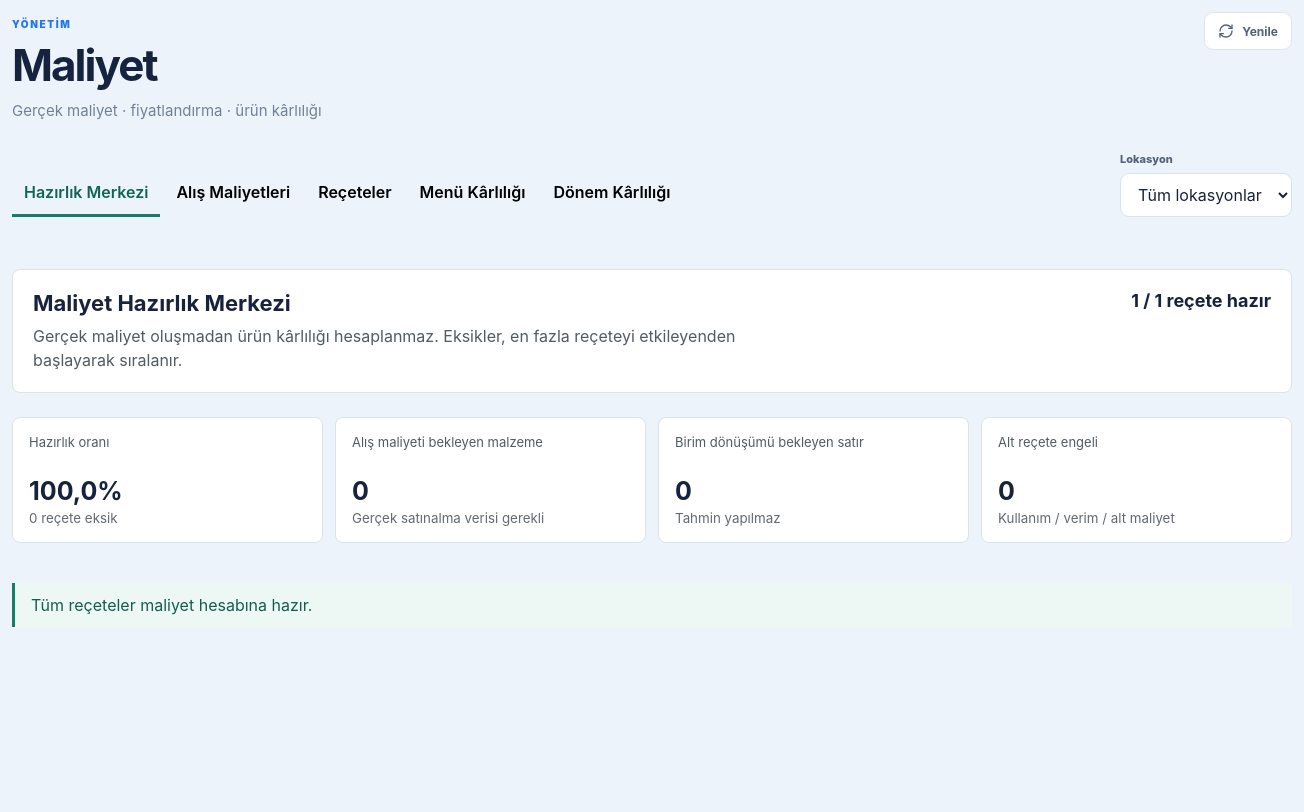
costing read models › shows readiness first, then last/previous, weighted cost and price change; switches currency
Expected: the heading "Maliyet Hazırlık Merkezi" is shown, [33,290,291,316]
Expected: the text "1 / 1 reçete hazır" is shown, [1131,290,1271,311]
Click the tab "Alış Maliyetleri": (233, 194) [164,170,302,217]
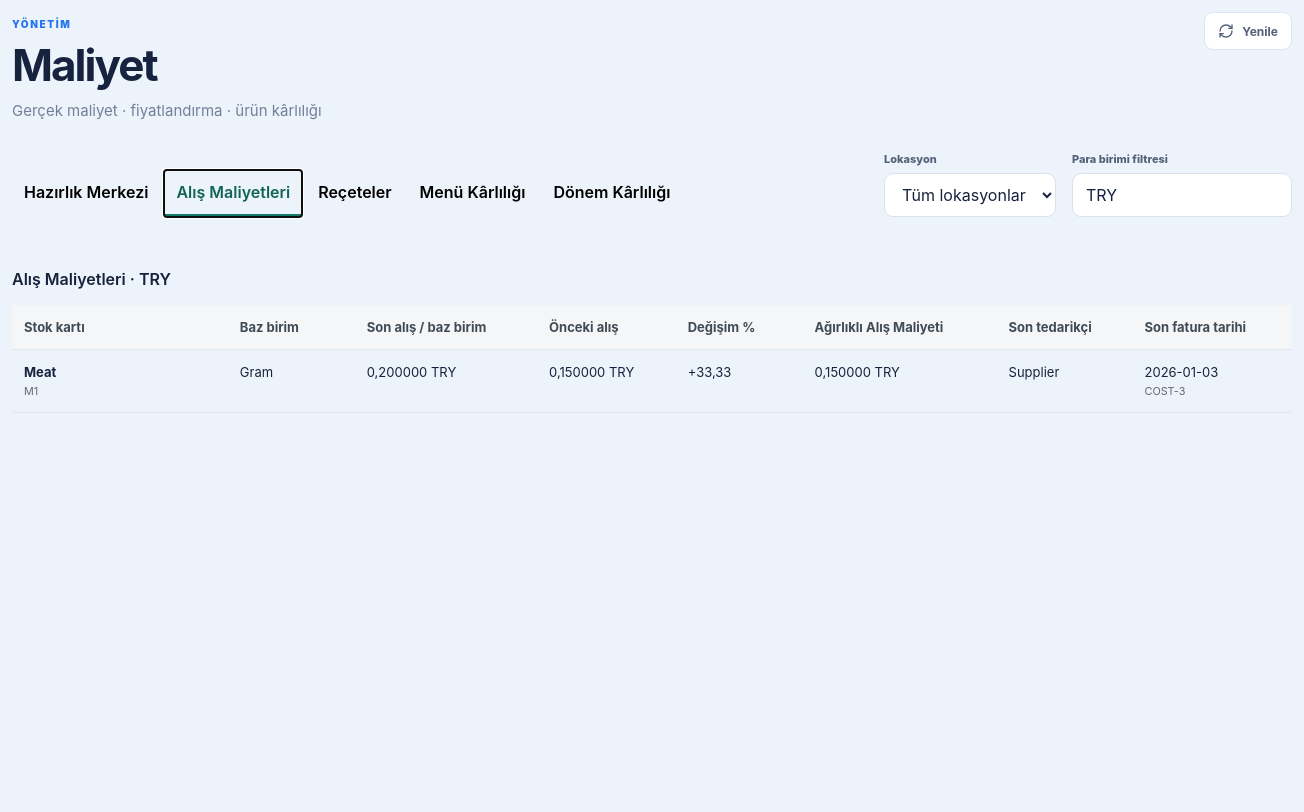
Result: the text "0,200000 TRY" is shown at [355,350,537,413]
Result: the text "0,150000 TRY" is shown 2 times at [537,350,676,413]; [803,350,997,413]
Result: the text "+33,33" is shown at [676,350,803,413]
Replace the text in the field labelled "Para birimi filtresi" with "EUR": (1182, 195) [1072,173,1292,217]
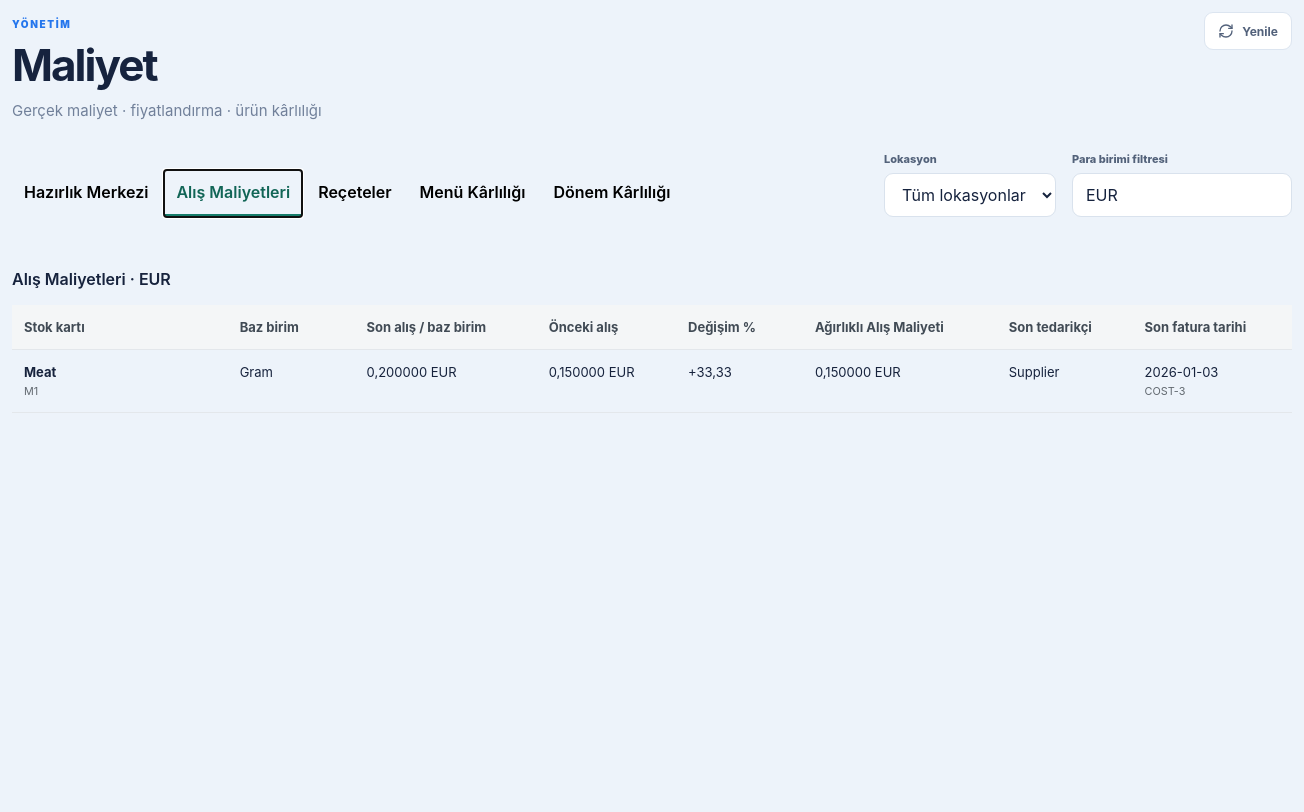
Result: the text "0,200000 EUR" is shown at [354,350,537,413]
Click the tab "Reçeteler": (355, 194) [306,170,404,217]
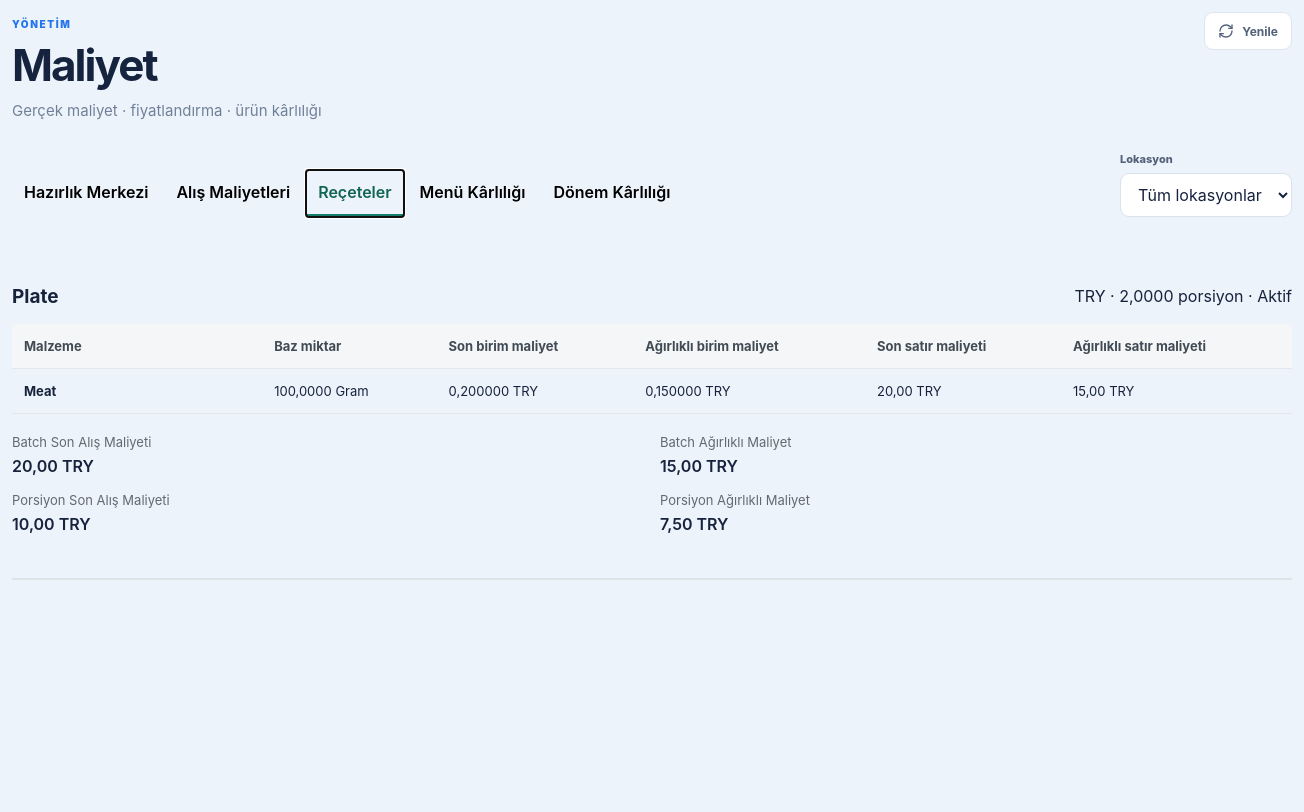
Click the tab "Menü Kârlılığı": (472, 194) [408,170,537,217]
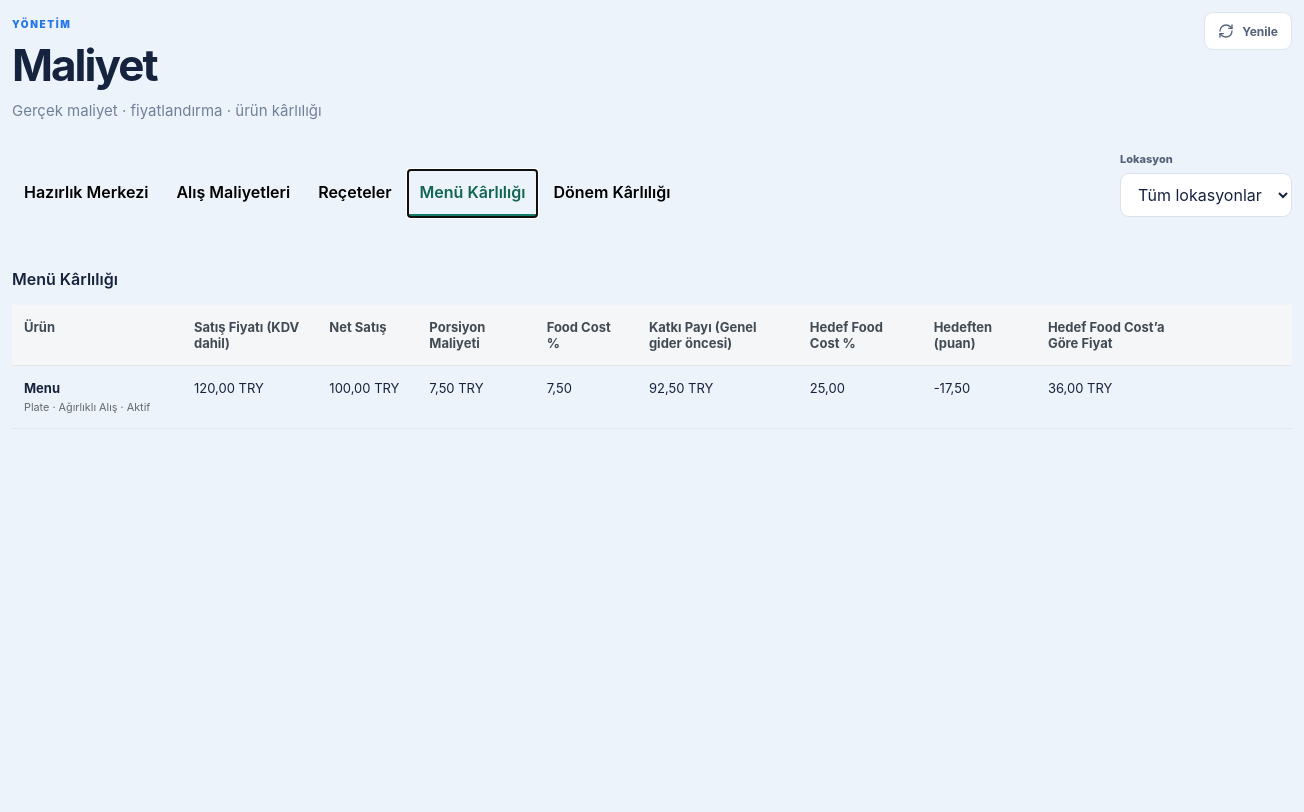
Result: the text "92,50 TRY" is shown at [637,366,798,429]
